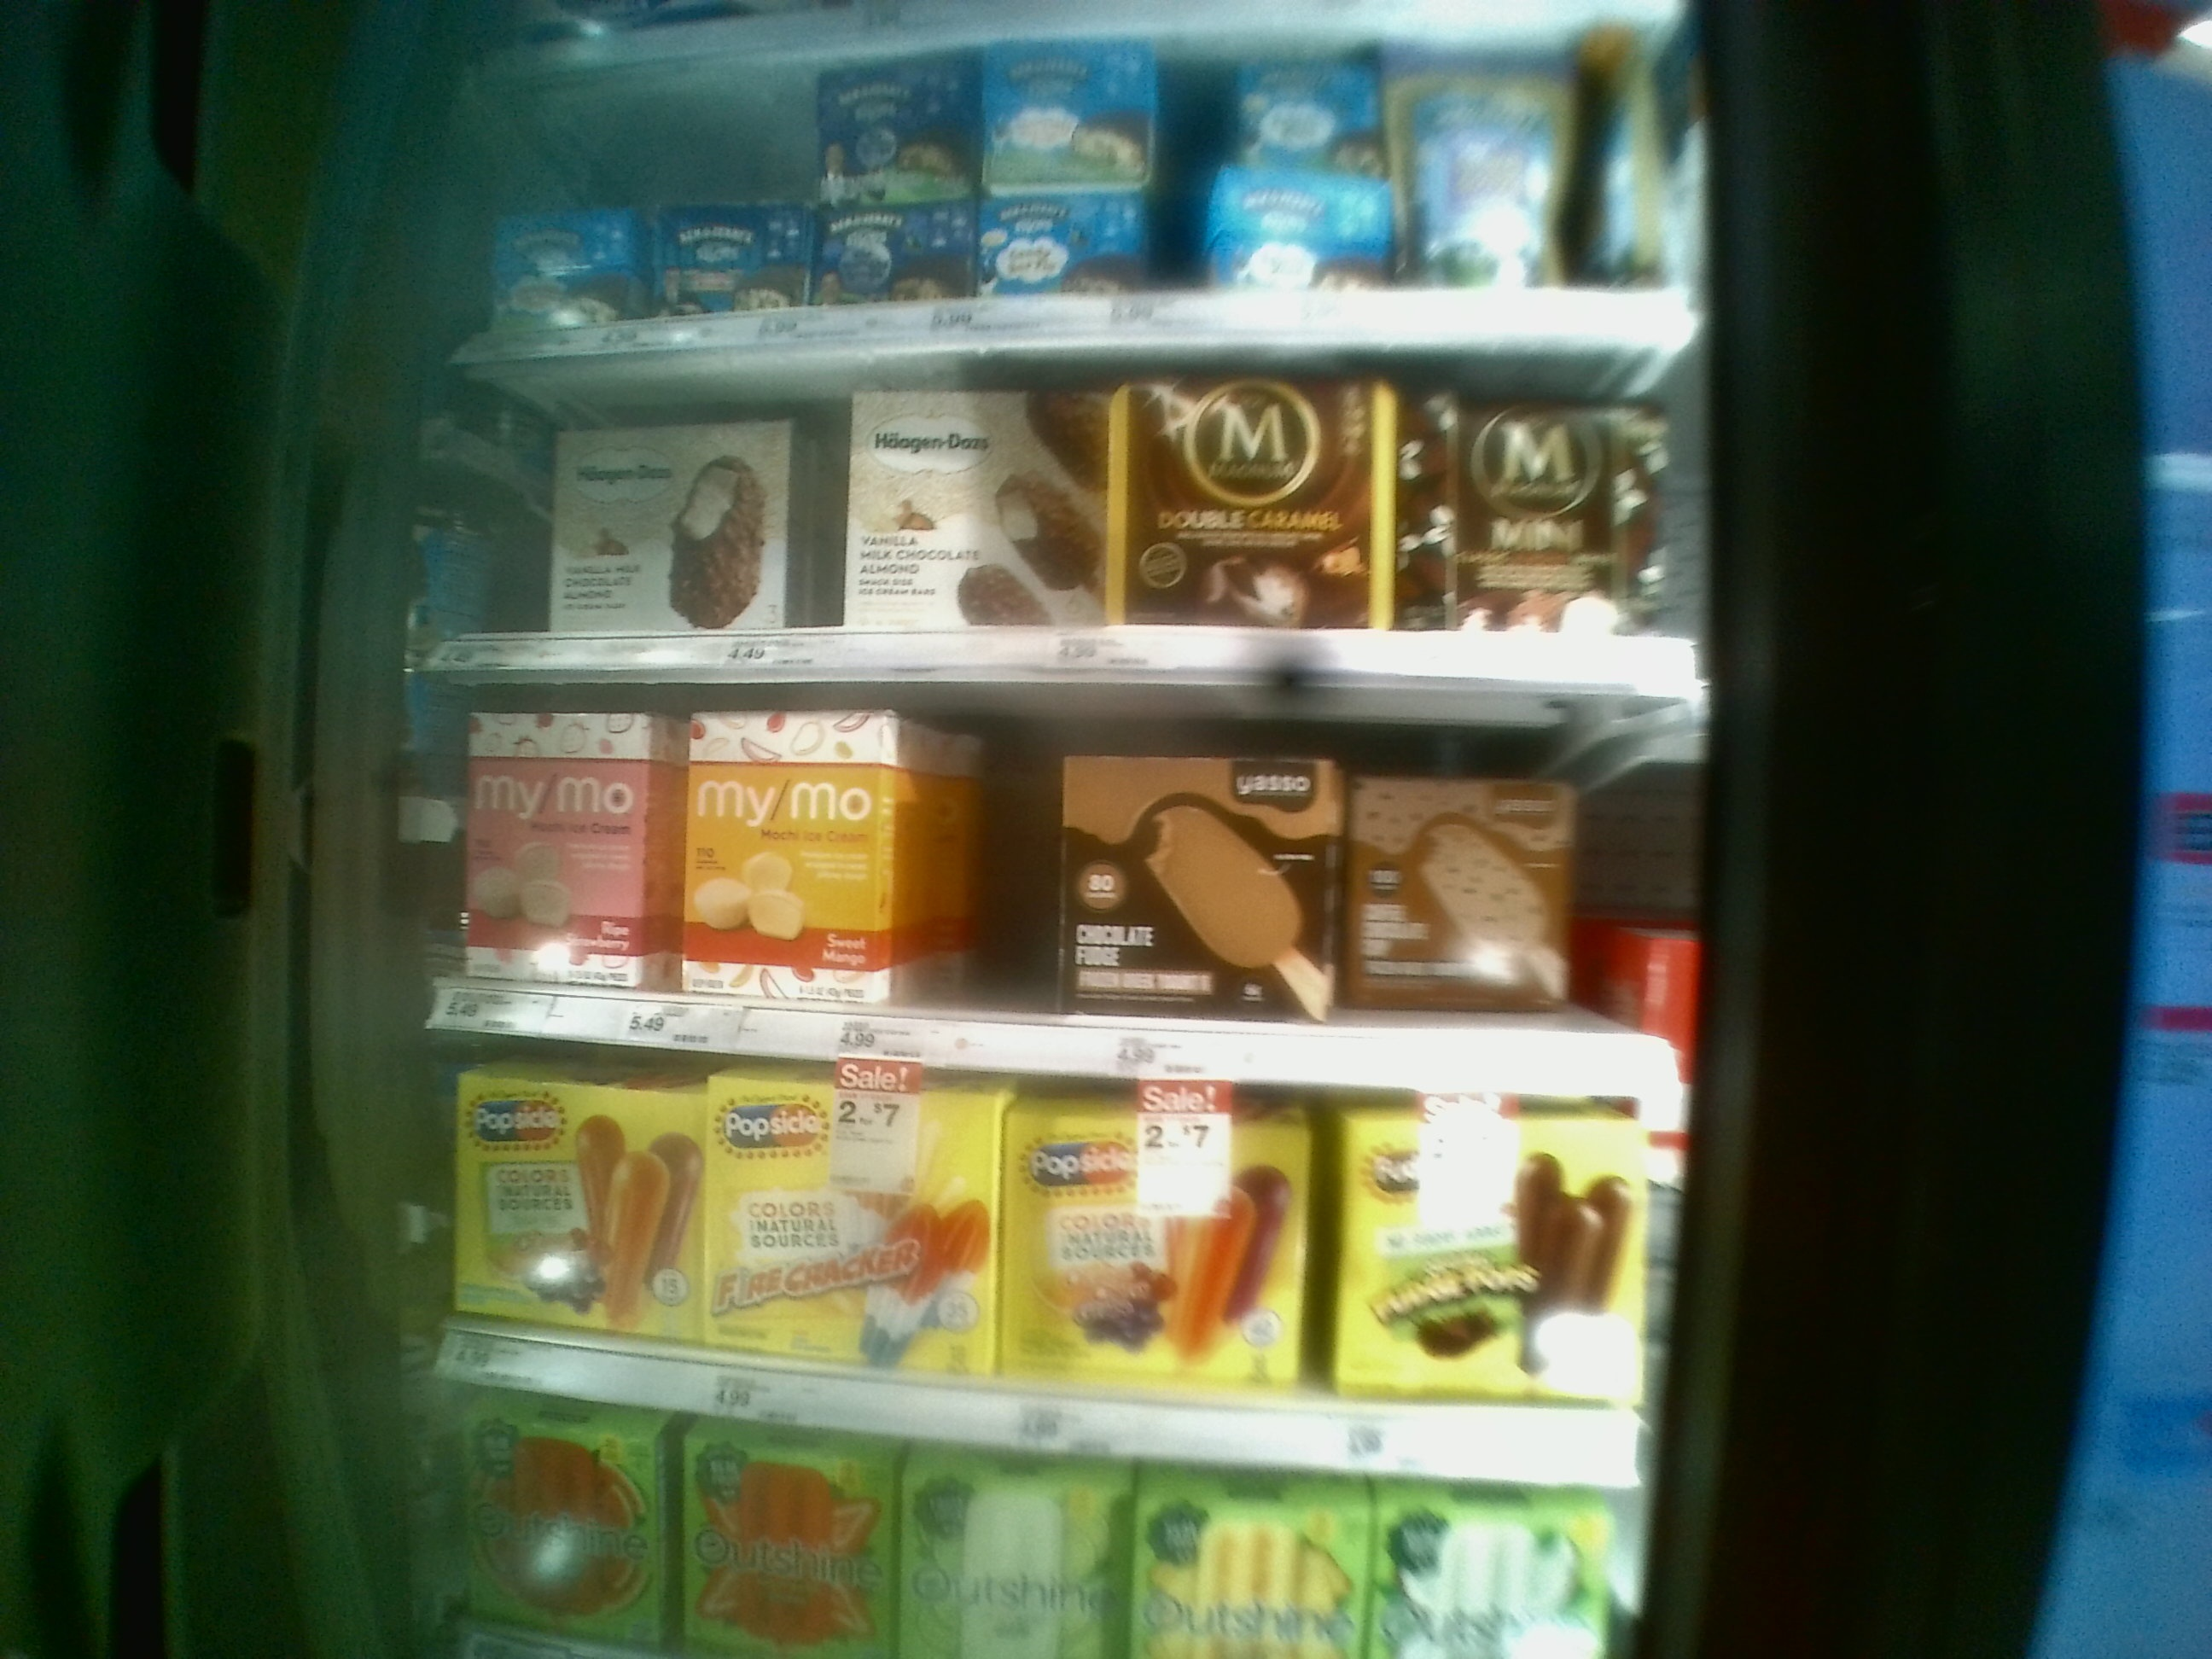ice-cream-shelf: (416, 676, 1691, 1086), (449, 361, 1703, 676)
